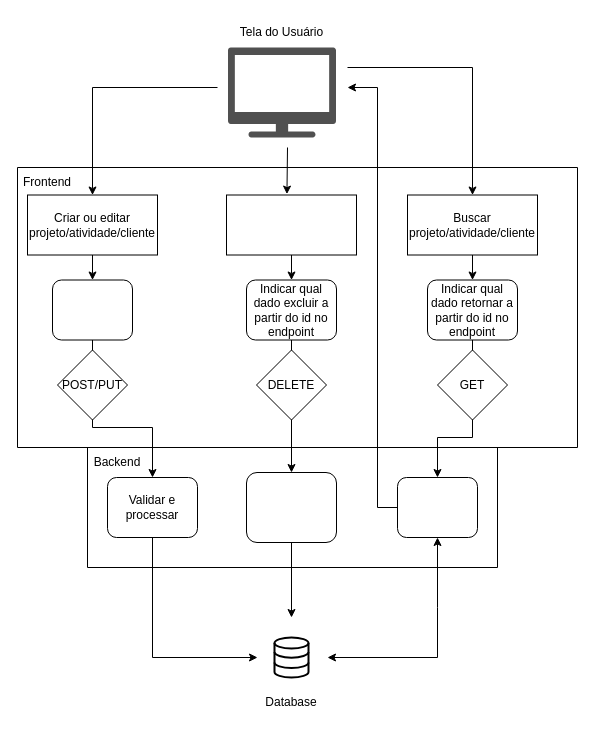
The diagram is 595 pixels wide and 734 high, and some of its shapes have lost their labels. Here are the shapes that lost their labels. From the top down, the box of each, then its label:
(226, 194, 356, 255): Excluir projeto/atividade/cliente
(52, 279, 132, 340): Preencher dados no corpo da requisição
(246, 472, 336, 542): Verificar a existência e relações do que for solicitado a exclusão
(396, 476, 478, 538): Buscar e formatar os dados
